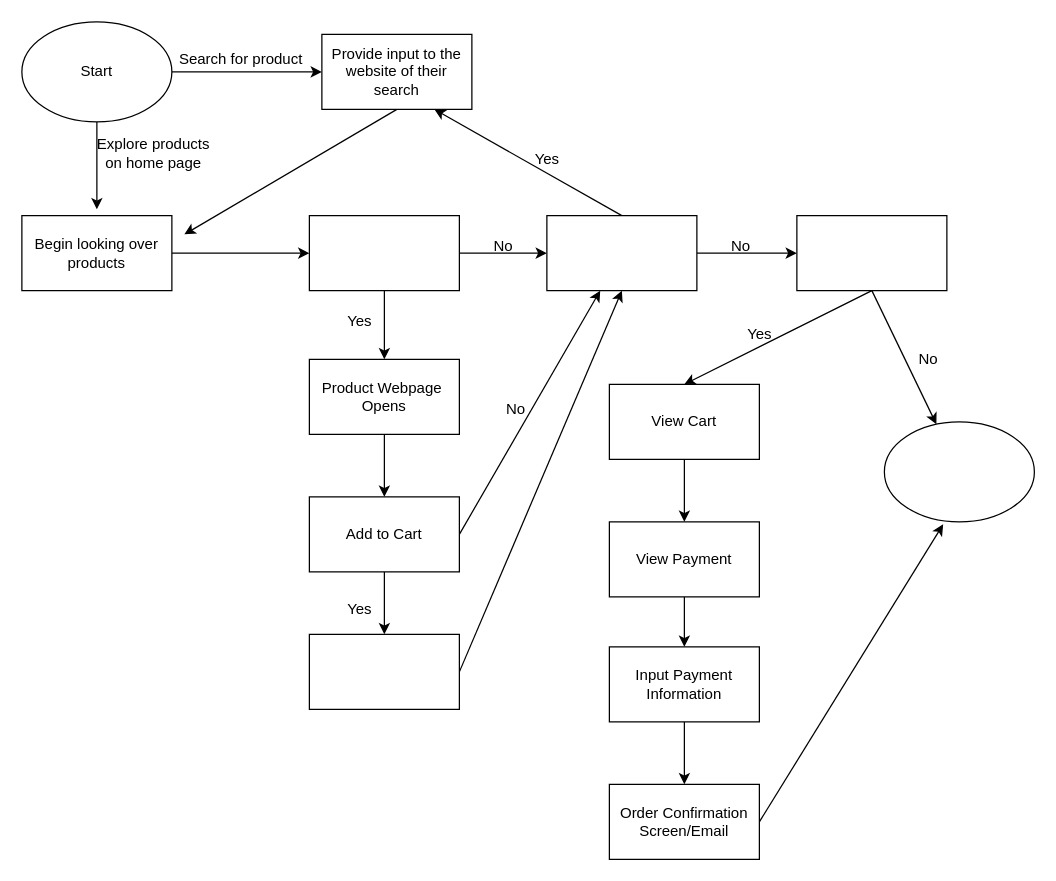
Some shapes in this 1056 by 881 pixel diagram are drawn without their labels. Here are the shapes that lost their labels. From the top down, the centre of each, then its label:
pixel 383 252: View specific product
pixel 621 252: Continue Shopping
pixel 871 252: Checkout
pixel 958 471: Exit
pixel 383 671: Add to Cart Confirmation
